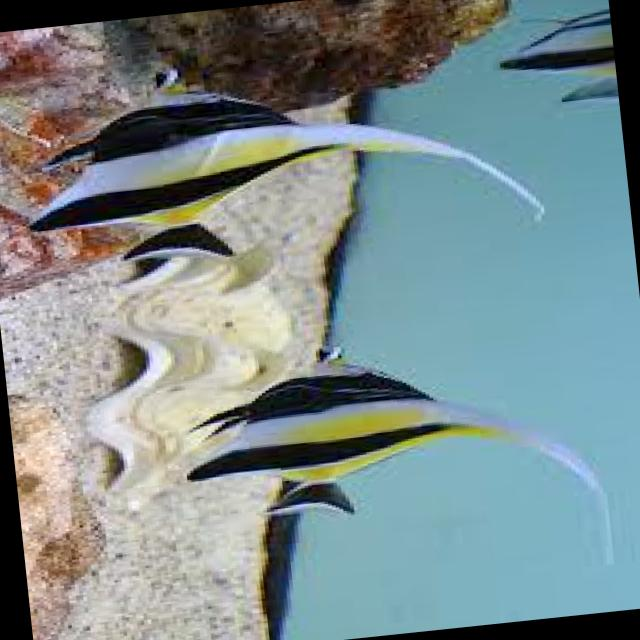MorishIdol: (11, 44, 552, 286), (173, 318, 612, 606)
